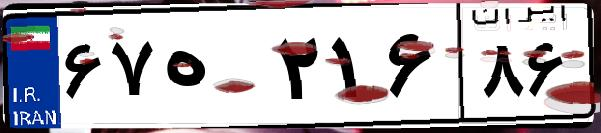1: (330, 28, 385, 110)
2: (270, 28, 330, 110)
6: (385, 28, 445, 110), (57, 26, 110, 100), (525, 38, 570, 115)
7: (110, 28, 158, 98)
8: (475, 38, 525, 113)
ه: (158, 20, 270, 120)
